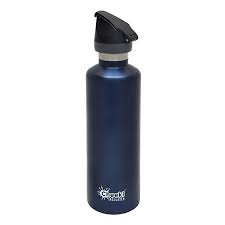bottle: (83, 5, 144, 218)
